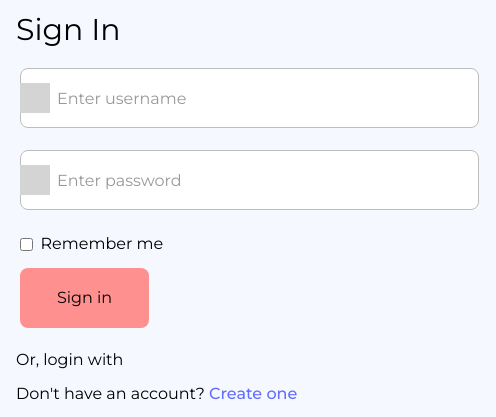
Scenario: AuthorizationForm › shows validation errors for empty fields
The image size is (496, 417).
Step 1. Click the button "Sign in" → (84, 298), box [20, 268, 149, 328]
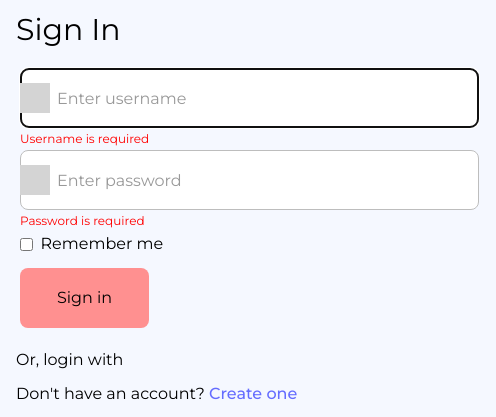
Check: the text "Username is required" is shown, box [20, 130, 149, 148]
Check: the text "Password is required" is shown, box [20, 212, 144, 230]
